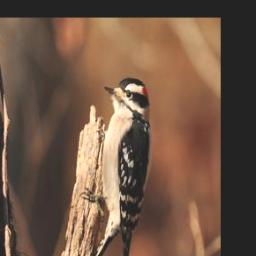Woodpecker: (79, 71, 152, 256)
